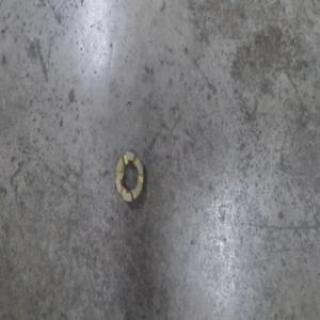Nuttrack_idkeyframe: (112, 147, 145, 204)
